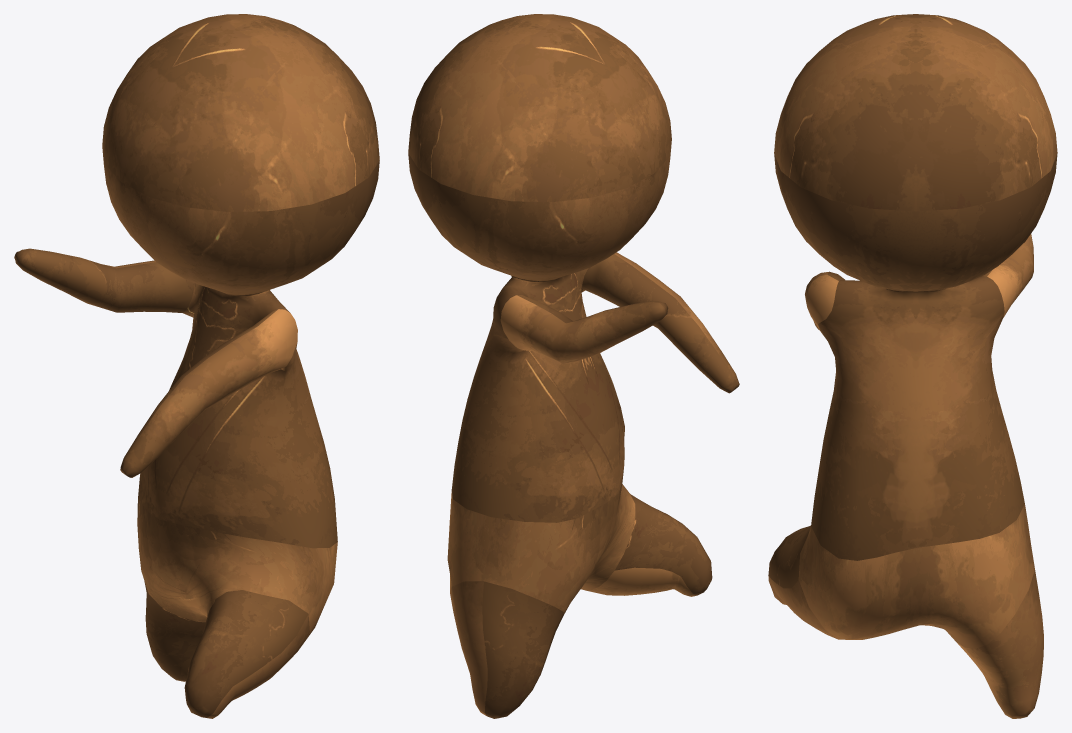
Rendered from personagem2.fbx.
3 views of the same model, side by side, from view 1: azimuth 30°, elevation 25°; view 2: azimuth 150°, elevation 25°; view 3: azimuth 270°, elevation 25° (orthographic). The views are drawn at different scales.
Parts seen in each view (by area): view 1: polySurface96; view 2: polySurface96; view 3: polySurface96.
Boxes of the visible parts, bbox=[...] form: polySurface96: bbox=[14, 14, 379, 718]; polySurface96: bbox=[408, 14, 739, 718]; polySurface96: bbox=[768, 14, 1057, 718].
Bounding box in the file's own units: 27.45 × 60.45 × 22.95.
